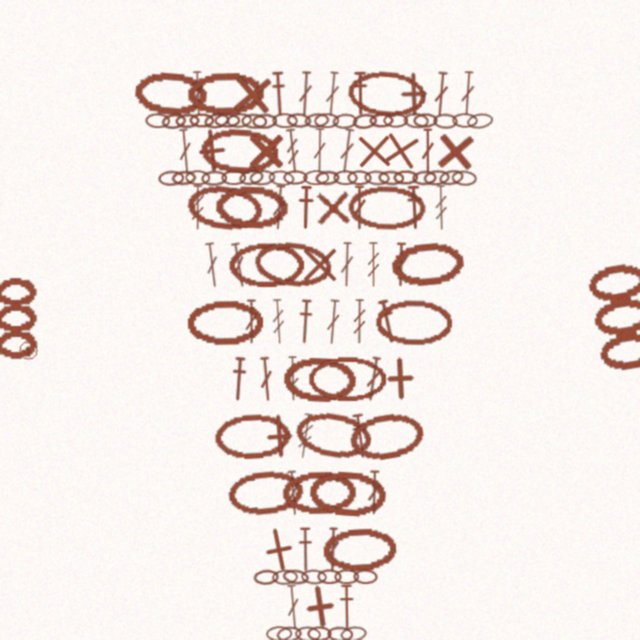chain: (292, 407, 374, 464), (346, 408, 428, 464), (184, 181, 266, 235), (252, 238, 333, 291), (226, 467, 306, 519), (346, 68, 427, 119), (307, 468, 387, 518), (389, 239, 467, 290), (199, 126, 279, 175), (132, 69, 210, 119), (321, 526, 399, 574), (213, 412, 291, 460), (347, 185, 427, 231), (282, 355, 358, 403), (186, 71, 264, 117), (214, 184, 290, 231), (281, 470, 358, 516), (186, 299, 263, 345), (375, 299, 452, 345), (308, 356, 386, 401), (228, 242, 304, 287), (238, 168, 265, 187), (438, 168, 465, 187), (203, 111, 230, 130), (466, 112, 494, 130), (282, 568, 309, 586), (268, 169, 295, 187), (161, 112, 187, 130), (352, 112, 378, 130), (249, 169, 276, 186), (423, 169, 450, 186), (226, 112, 253, 129), (286, 112, 312, 129), (304, 112, 330, 129), (403, 112, 429, 129), (253, 569, 279, 585), (272, 569, 298, 585), (301, 569, 327, 585), (158, 170, 184, 186), (171, 170, 197, 186), (201, 170, 227, 186), (364, 170, 390, 186), (378, 170, 404, 186), (451, 170, 477, 186), (241, 113, 267, 129), (332, 113, 358, 129), (340, 625, 367, 640), (315, 170, 340, 186), (412, 170, 437, 186), (175, 113, 200, 129), (252, 113, 277, 129), (433, 113, 458, 129), (276, 625, 302, 640), (303, 170, 329, 185), (214, 113, 240, 128), (272, 113, 298, 128), (452, 113, 478, 128), (317, 569, 342, 584), (334, 569, 359, 584), (353, 569, 378, 584), (185, 170, 210, 185), (221, 170, 246, 185), (283, 170, 308, 185), (333, 170, 358, 185), (347, 170, 372, 185), (393, 170, 418, 185), (145, 113, 170, 128), (189, 113, 214, 128), (314, 113, 339, 128), (369, 113, 394, 128), (383, 113, 408, 128), (413, 113, 438, 128), (266, 626, 292, 640), (295, 626, 321, 640), (327, 626, 353, 640), (307, 626, 332, 640)
double: (228, 242, 250, 288), (363, 356, 384, 402), (202, 242, 222, 288), (337, 128, 357, 174), (323, 71, 342, 117), (284, 584, 302, 630), (284, 470, 302, 516), (257, 356, 275, 402), (324, 299, 342, 345), (176, 128, 194, 174), (432, 71, 450, 117), (270, 185, 288, 230), (297, 71, 314, 116), (459, 71, 476, 116), (325, 527, 341, 572), (366, 470, 382, 515), (339, 242, 355, 287), (393, 242, 409, 287), (190, 71, 206, 116), (244, 299, 259, 344), (352, 185, 367, 230), (312, 128, 327, 173), (420, 128, 435, 173)
enseble_chain: (580, 258, 640, 381), (0, 276, 43, 363)
half_double: (374, 298, 400, 345), (349, 413, 371, 459), (229, 356, 249, 402), (404, 185, 424, 230), (296, 299, 315, 344), (296, 185, 315, 230), (269, 71, 288, 116), (351, 71, 369, 116), (338, 584, 355, 629), (297, 527, 314, 572)
noise: (17, 339, 39, 361)
single: (252, 523, 305, 576), (374, 124, 427, 177), (294, 581, 345, 632), (187, 126, 236, 175), (255, 412, 303, 460), (431, 127, 479, 175), (228, 70, 276, 118), (377, 355, 424, 402), (309, 184, 356, 231), (351, 128, 397, 174), (391, 71, 437, 117), (297, 242, 342, 287), (243, 128, 288, 173)
treble: (295, 413, 316, 459), (283, 128, 302, 174), (270, 299, 287, 344), (285, 356, 301, 401), (433, 185, 449, 230), (352, 299, 367, 344), (366, 242, 381, 287), (190, 185, 205, 230)
